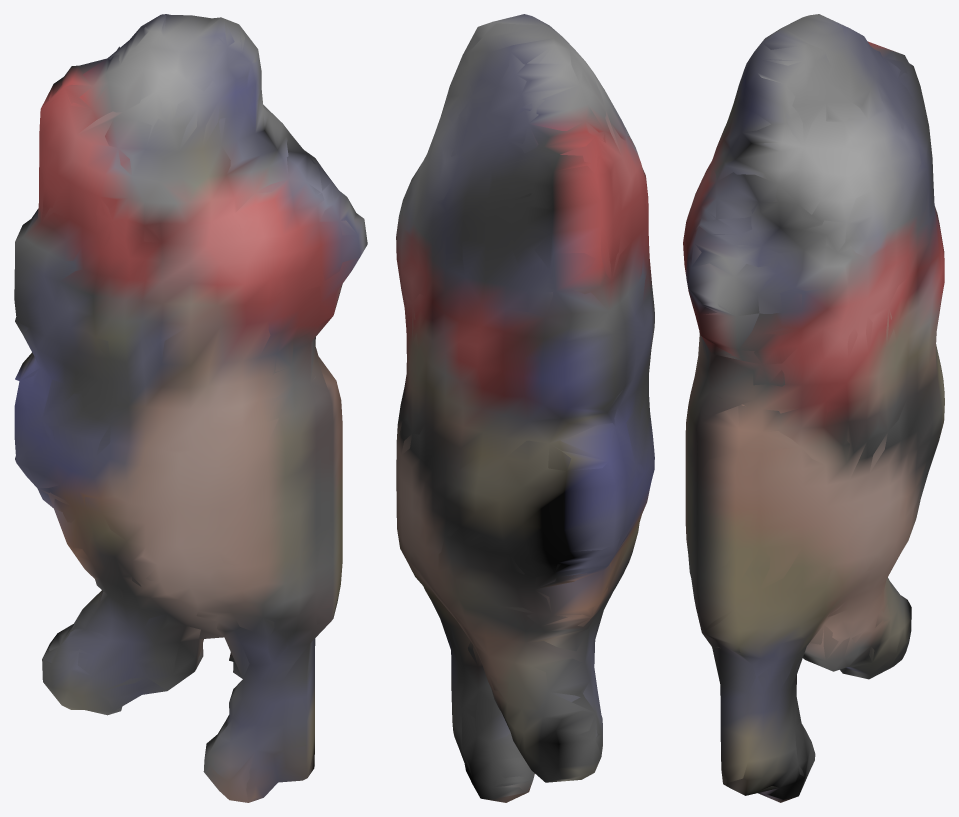
File: soviet_infantry.glb
3 views of the same model, side by side, from view 1: azimuth 30°, elevation 25°; view 2: azimuth 150°, elevation 25°; view 3: azimuth 270°, elevation 25° (orthographic). The views are drawn at different scales.
Parts seen in each view (by area): view 1: soviet_conscript; view 2: soviet_conscript; view 3: soviet_conscript.
Part boxes in pixels (x1,y1,x2,y2): soviet_conscript: (14, 14, 367, 802); soviet_conscript: (396, 14, 654, 802); soviet_conscript: (683, 14, 944, 802).
Size of the model in its own units: 0.7939 by 2.22 by 0.703.
